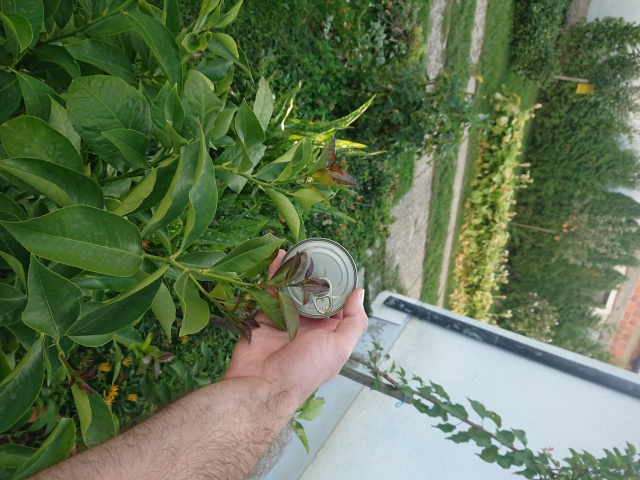Gavrilovic Pork Liver Pate 100g: (276, 237, 359, 320)
